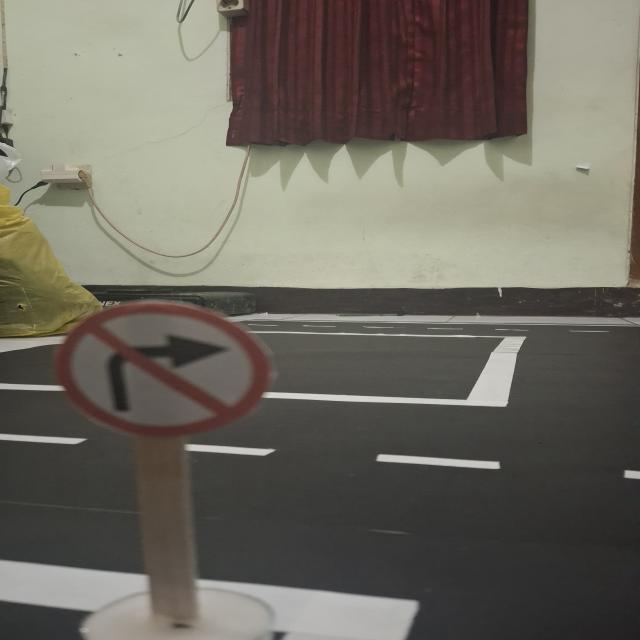Dilarang Belok Kanan: (55, 301, 272, 439)
